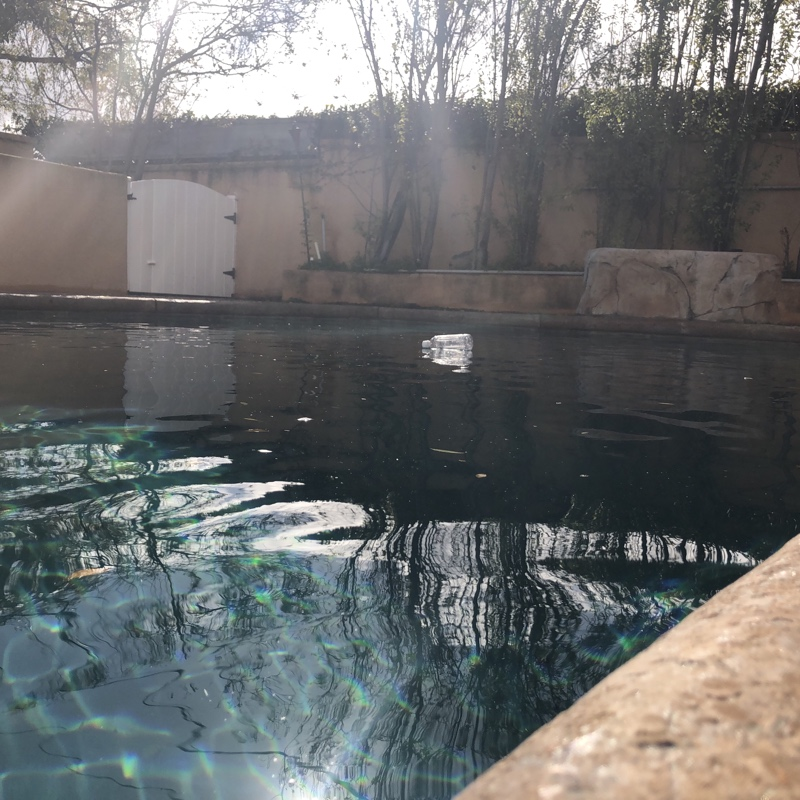Plastic Bottle: (421, 330, 473, 351)
